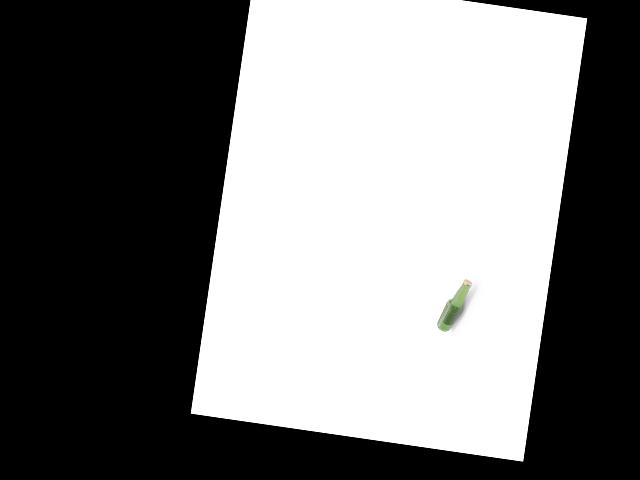beer: (436, 276, 473, 334)
